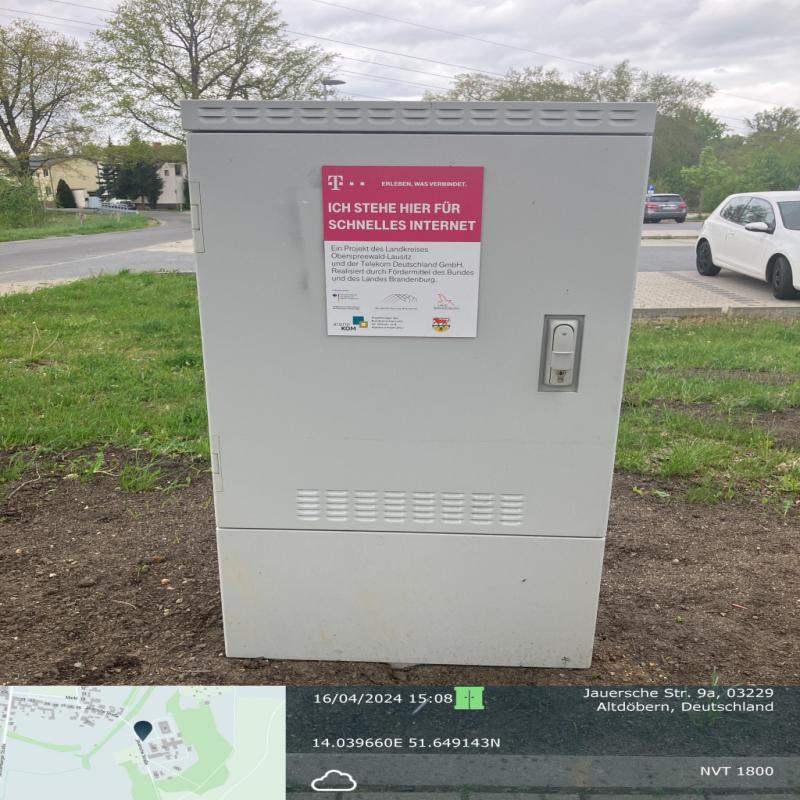NT-Gehause: (186, 104, 649, 669)
Steaker: (322, 167, 488, 340)
